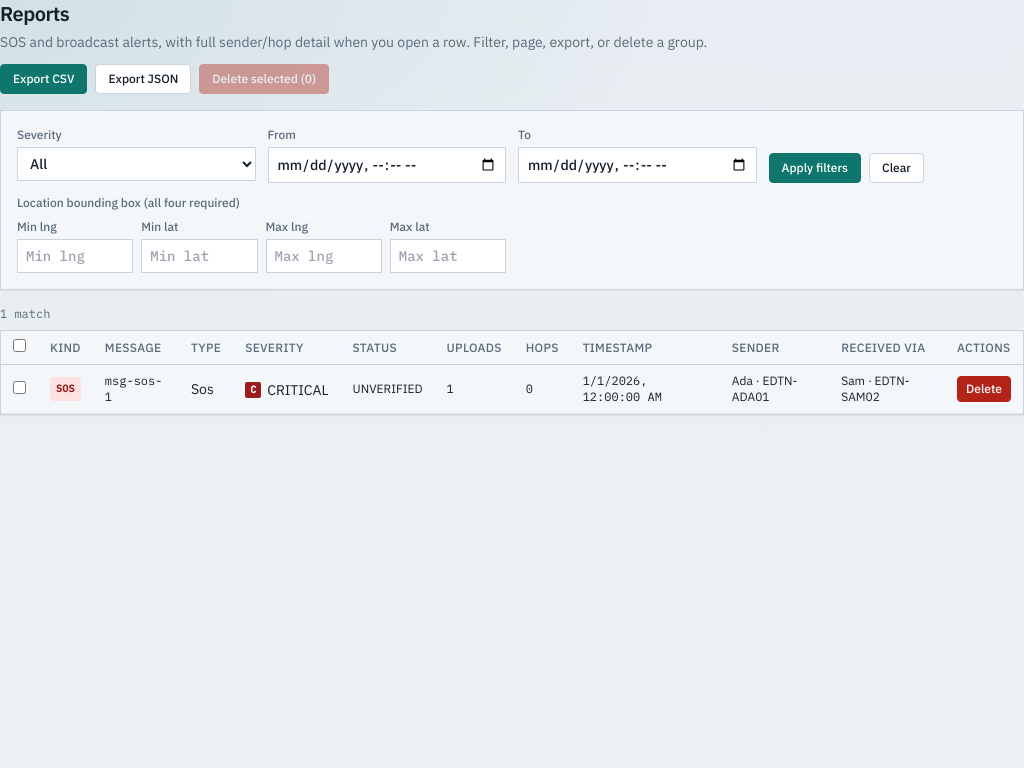
Test case: ReportsPage delete › opens bulk delete confirm for selected reports
Step 1. Click the checkbox named "select msg-sos-1" → (20, 388), box [13,381,26,394]
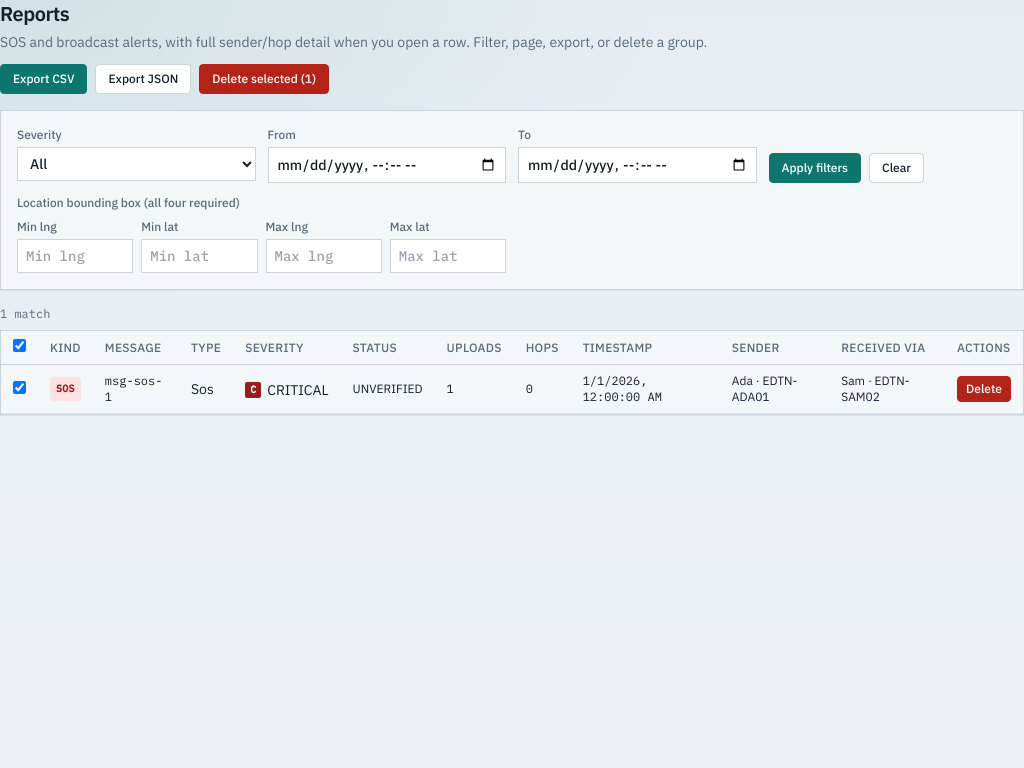
Step 2. Click the button "Delete selected (1)" → (264, 79), box [199,64,329,94]
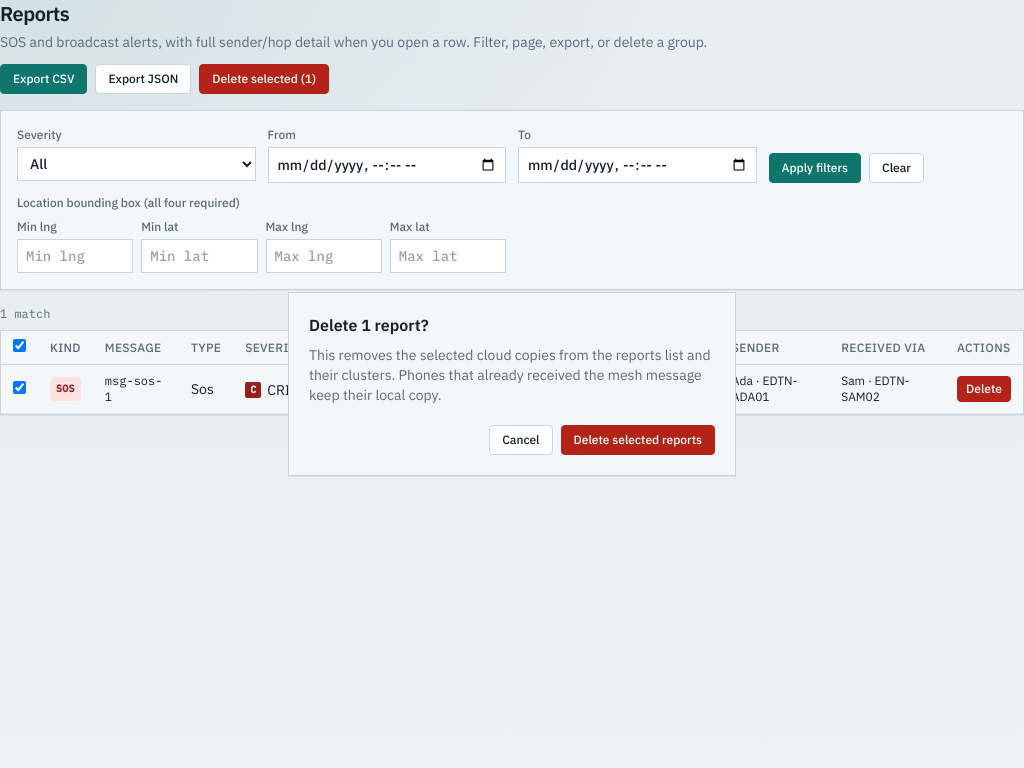
Now the dialog "Delete 1 report" is shown, box [288,292,736,476]
